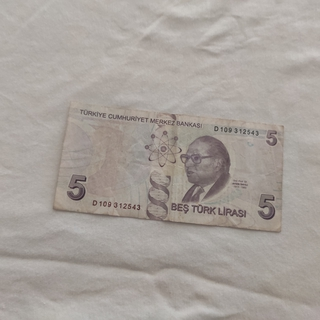5TLBack: (51, 100, 285, 234)
